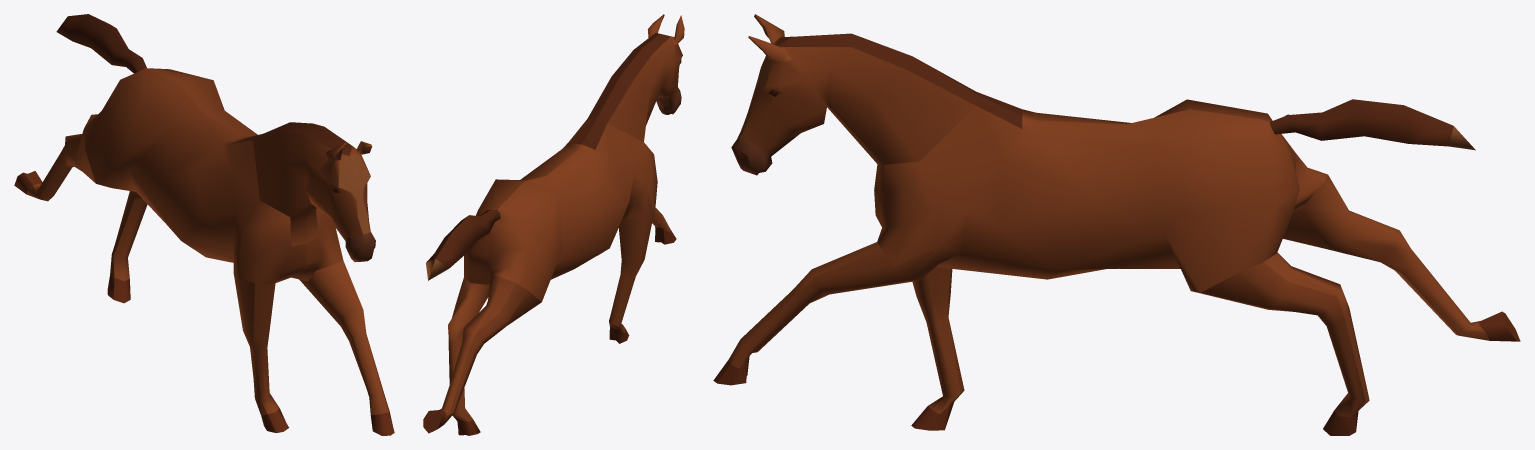
File: Horse.glb
The picture shows the model from 3 angles, left to right: view 1: azimuth 30°, elevation 25°; view 2: azimuth 150°, elevation 25°; view 3: azimuth 270°, elevation 25°; orthographic projection. The views are drawn at different scales.
Parts seen in each view (by area): view 1: mesh_0; view 2: mesh_0; view 3: mesh_0.
Boxes of the visible parts, x1,y1,x2,y2 form: mesh_0: (14, 14, 394, 435); mesh_0: (423, 14, 684, 435); mesh_0: (713, 14, 1520, 435).
Bounding box in the file's own units: 0.1016 × 0.3031 × 0.5359.
